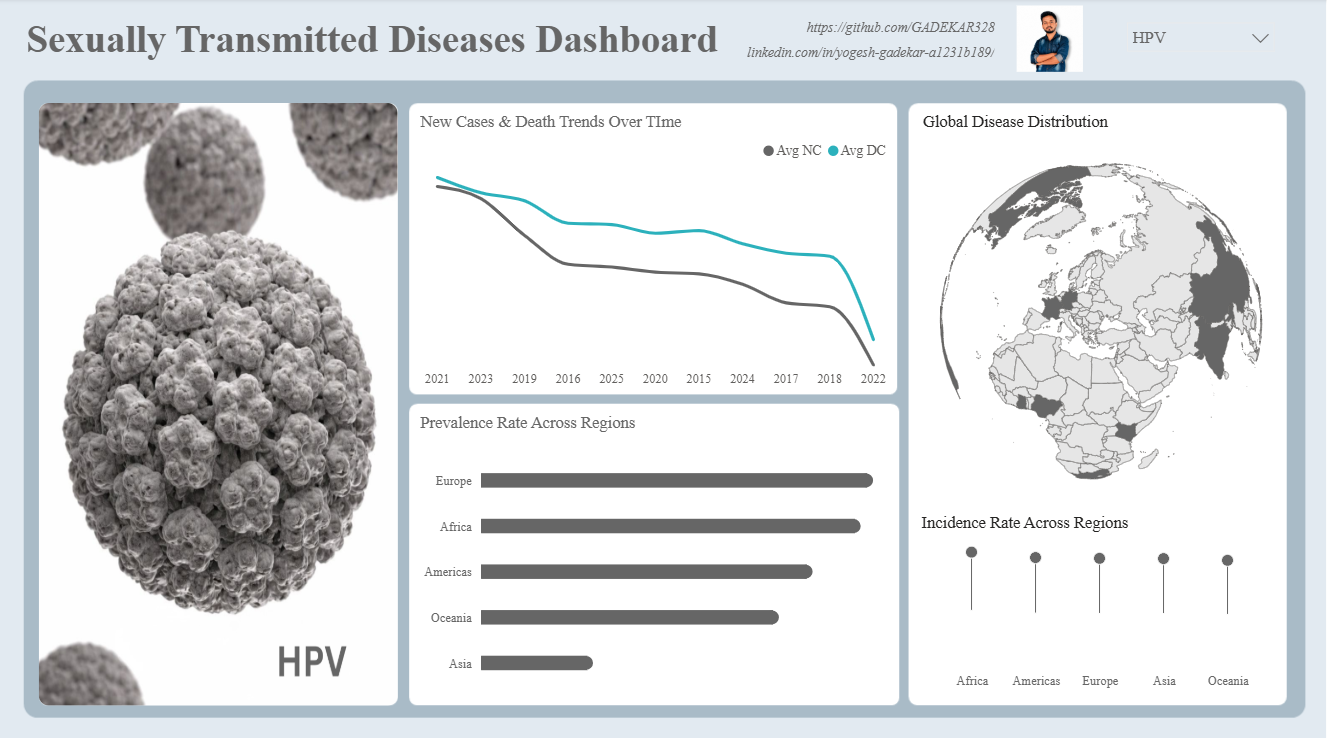

The dashboard page shown, as its layout file describes it:
{"tool":"powerbi","page":{"name":"Page 1","canvas":[1280,720],"ordinal":0},"visuals":[{"type":"slicer","fields":{"Values":["Health Image Dataset.Disease"]},"box":[1077.4,13.3,162.9,55.5],"z":0},{"type":"image","box":[37.4,101.3,346.2,581.5],"z":1000},{"type":"lineChart","title":"New Cases & Death Trends Over TIme","fields":{"Category":["Health Dataset.Year"],"Y":["Avg(Health Dataset.New_Cases)"],"Y2":["Avg(Health Dataset.Deaths)"]},"box":[400.5,109.8,464.5,272.7],"z":2000},{"type":"clusteredBarChart","title":"Prevalence Rate Across Regions","fields":{"Category":["Health Dataset.Region"],"Y":["Avg(Health Dataset.Prevalence_Rate)"]},"box":[400.5,400.5,464.5,282.3],"z":3000},{"type":"shapeMap","title":"Global Disease Distribution","fields":{"Category":["Health Dataset.Country"]},"box":[885.5,109.8,354.7,387.3],"z":3001},{"type":"textbox","box":[20.5,13.3,705.8,55.5],"z":3002},{"type":"clusteredColumnChart","title":"Incidence Rate Across Regions","fields":{"Category":["Health Dataset.Region"],"Y":["Avg(Health Dataset.Incidence_Rate)"]},"box":[884.3,497.1,355.9,177.3],"z":3003},{"type":"image","box":[974.8,7.2,77.2,63.9],"z":3004},{"type":"textbox","box":[714.2,37.4,250.9,31.4],"z":3005},{"type":"textbox","box":[766.1,13.3,199.1,31.4],"z":3006}]}

Visuals, with their boxes in screenshot pixels (x1, y1, x2, y2), scaled from the page's 1280x720 canvas onto the 1327x738 screenshot:
slicer - Health Image Dataset.Disease: (1117,14,1286,71)
image: (39,104,398,700)
"New Cases & Death Trends Over TIme" lineChart: (415,113,897,392)
"Prevalence Rate Across Regions" clusteredBarChart: (415,411,897,700)
"Global Disease Distribution" shapeMap: (918,113,1286,510)
textbox: (21,14,753,71)
"Incidence Rate Across Regions" clusteredColumnChart: (917,510,1286,691)
image: (1011,7,1091,73)
textbox: (740,38,1001,71)
textbox: (794,14,1001,46)
